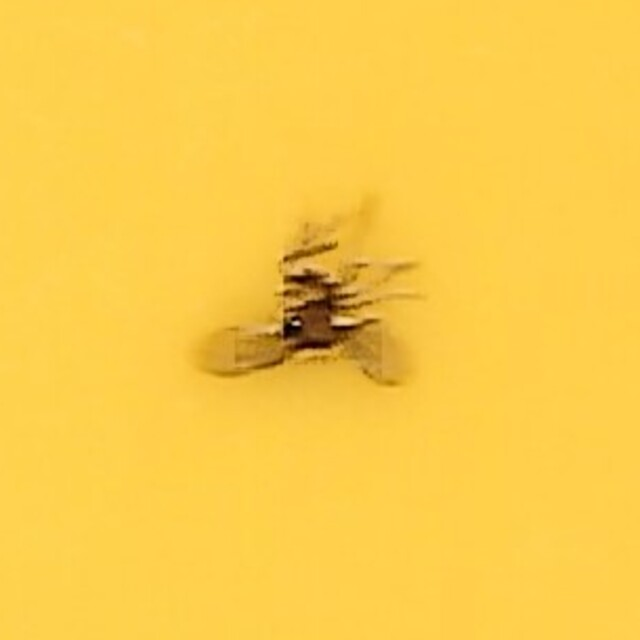Nematocera: (210, 229, 430, 411)
